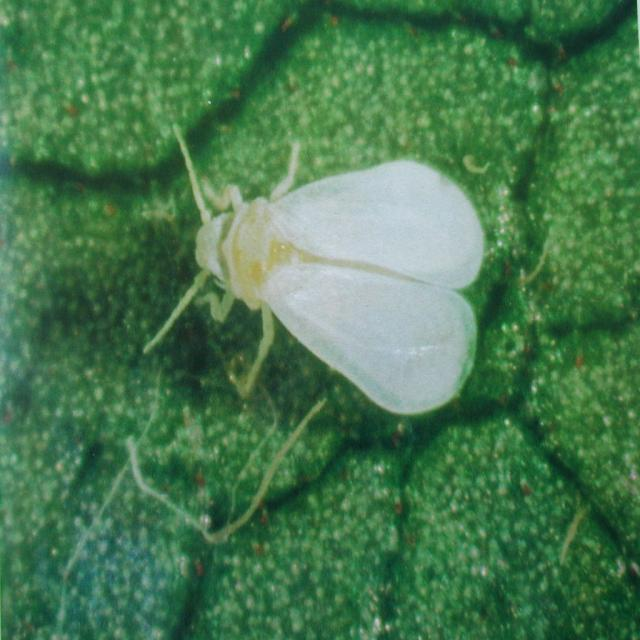whiteflies: (121, 104, 497, 438)
